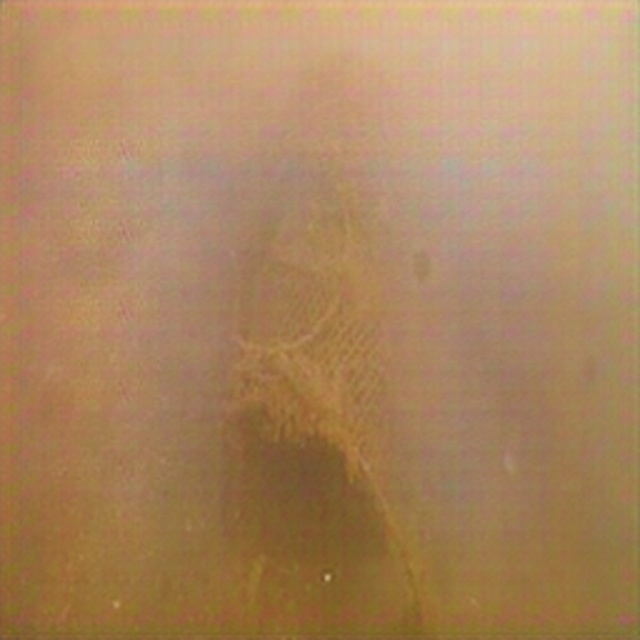mine: (223, 100, 403, 545)
